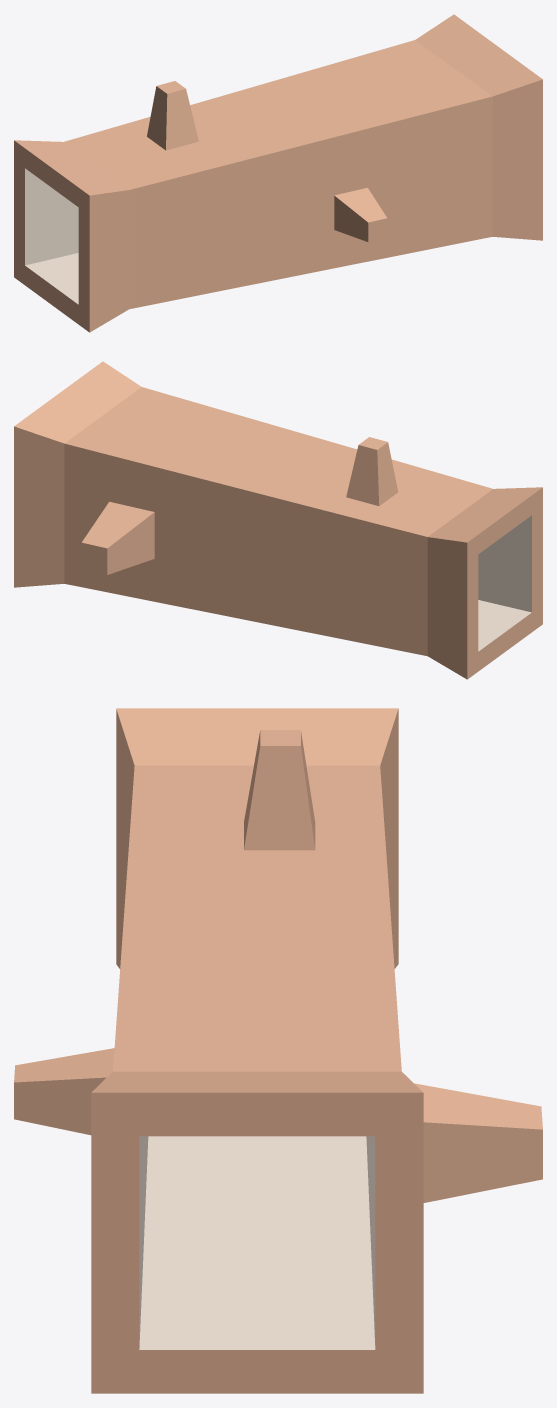
The model's file is log_large.gltf.
3 views of the same model, one above another, from view 1: azimuth 30°, elevation 25°; view 2: azimuth 150°, elevation 25°; view 3: azimuth 270°, elevation 25° (orthographic). The views are drawn at different scales.
Visible parts, largest first — view 1: log_large; view 2: log_large; view 3: log_large.
Boxes of the visible parts, left/top/right/bottom form: log_large: left=14, top=14, right=542, bottom=332; log_large: left=14, top=361, right=542, bottom=679; log_large: left=14, top=708, right=542, bottom=1393.
Size of the model in its own units: 1 by 0.4167 by 0.5493.
